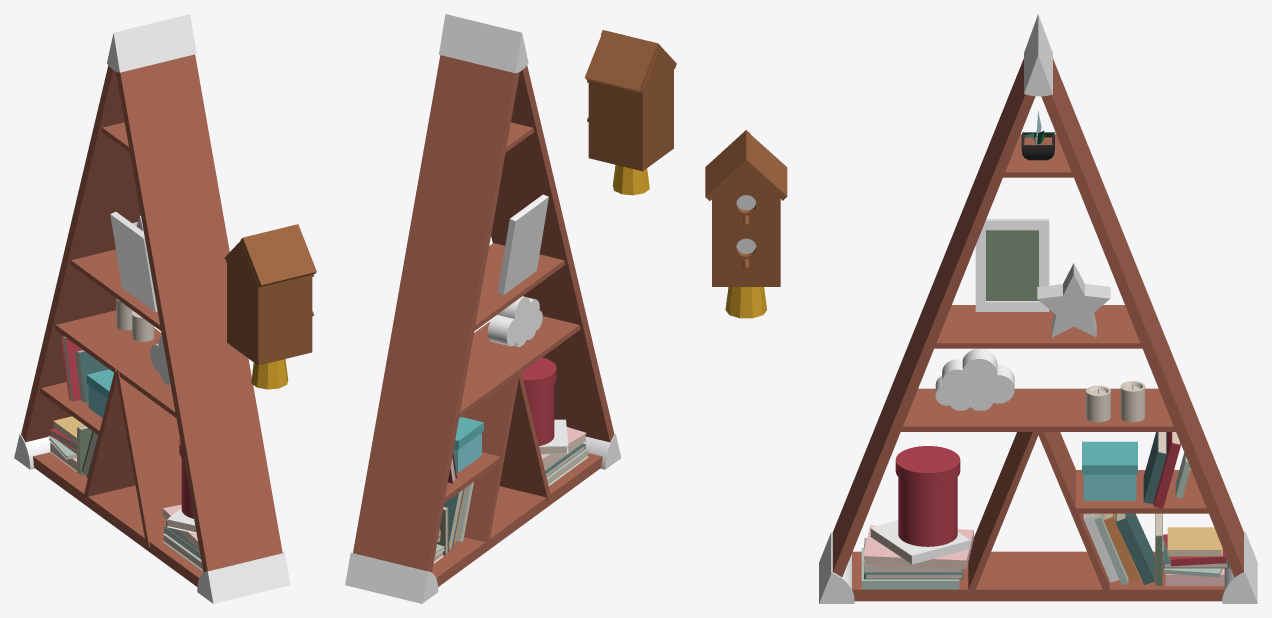
Rendered from Furn2_playzone_left_color1_joined.fbx.
The picture shows the model from 3 angles, left to right: view 1: azimuth 30°, elevation 25°; view 2: azimuth 150°, elevation 25°; view 3: azimuth 270°, elevation 25°; orthographic projection. The views are drawn at different scales.
Visible parts, largest first — view 1: Куб.088; view 2: Куб.088; view 3: Куб.088.
Part boxes in pixels (x1,y1,x2,y2): Куб.088: [14, 14, 316, 603]; Куб.088: [345, 14, 676, 603]; Куб.088: [705, 14, 1257, 603].
Size of the model in its own units: 99.56 by 534 by 488.
